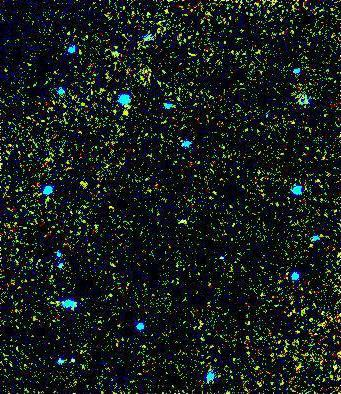star: (110, 99, 140, 129)
